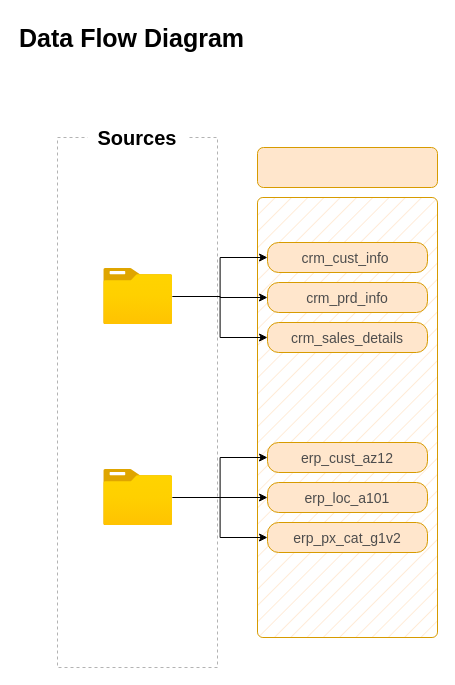
The diagram is 455 pixels wide and 685 high, and some of its shapes have lost their labels. The centre of each missing label's shape, as x and y in pixels:
"Bronze Layer" goes at point 347,167.
"source_crm" goes at point 137,296.
"source_erp" goes at point 137,497.
